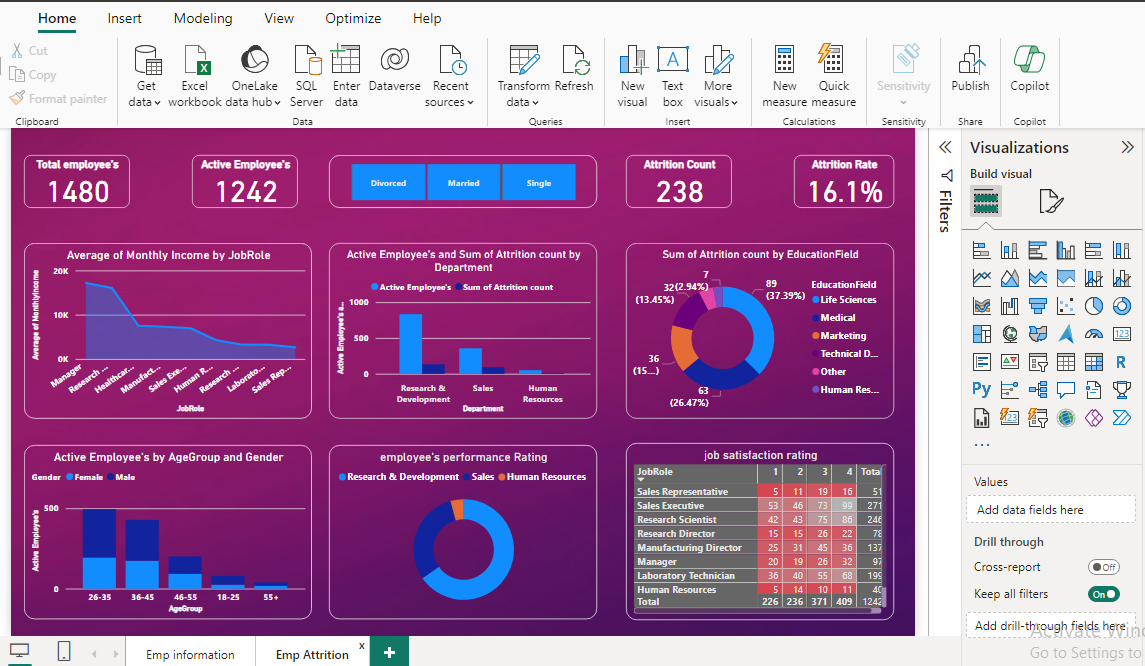

This screenshot's page, from the dashboard's own definition file:
{"tool":"powerbi","page":{"name":"Emp Attrition","canvas":[1280,720],"ordinal":1},"visuals":[{"type":"card","title":"Total employee''s","fields":{"Values":["Sum(HR_Analytics.EmployeeCount)"]},"box":[18.4,38.3,150.2,75.1],"z":0},{"type":"card","title":"Active Employee''s","fields":{"Values":["HR_Analytics.Active Employee's"]},"box":[256.5,38.3,150.2,75.1],"z":1000},{"type":"card","title":"Attrition Count","fields":{"Values":["Sum(HR_Analytics.Attrition count)"]},"box":[871.7,38.3,150.2,75.1],"z":2000},{"type":"card","title":"Attrition Rate","fields":{"Values":["HR_Analytics.Attrition Rate"]},"box":[1109.8,38.3,141.7,75.1],"z":3000},{"type":"clusteredColumnChart","fields":{"Category":["HR_Analytics.Department"],"Y":["HR_Analytics.Active Employee's","Sum(HR_Analytics.Attrition count)"]},"box":[450.7,163,379.8,249.4],"z":4000},{"type":"donutChart","fields":{"Y":["Sum(HR_Analytics.Attrition count)"],"Category":["HR_Analytics.EducationField"]},"box":[871.7,163,379.8,249.4],"z":5000},{"type":"columnChart","fields":{"Y":["HR_Analytics.Active Employee's"],"Category":["HR_Analytics.AgeGroup"],"Series":["HR_Analytics.Gender"]},"box":[18.4,449.3,408.2,246.6],"z":6000},{"type":"pivotTable","title":"job satisfaction rating","fields":{"Rows":["HR_Analytics.JobRole"],"Columns":["HR_Analytics.JobSatisfaction"],"Values":["HR_Analytics.Active Employee's"]},"box":[871.7,446.5,379.8,250.9],"z":7000},{"type":"donutChart","title":"employee''s performance Rating","fields":{"Category":["HR_Analytics.Department"],"Y":["CountNonNull(HR_Analytics.PerformanceRating)"]},"box":[450.7,449.3,379.8,246.6],"z":8000},{"type":"areaChart","title":"Average of Monthly Income by JobRole","fields":{"Category":["HR_Analytics.JobRole"],"Y":["Avg(HR_Analytics.MonthlyIncome)"]},"box":[18.4,163,408.2,249.4],"z":9000},{"type":"slicer","fields":{"Values":["HR_Analytics.MaritalStatus"]},"box":[450.7,38.3,379.8,75.1],"z":10000}]}

Visuals, with their boxes on the page's 1280x720 design canvas (x1, y1, x2, y2). These are canvas units, not pixel positions in the 1145x666 screenshot, which may show the page scaled, cropped or inside an application window:
"Total employee''s" card: detection(18, 38, 169, 113)
"Active Employee''s" card: detection(256, 38, 407, 113)
"Attrition Count" card: detection(872, 38, 1022, 113)
"Attrition Rate" card: detection(1110, 38, 1252, 113)
clusteredColumnChart - HR_Analytics.Department x HR_Analytics.Active Employee's: detection(451, 163, 830, 412)
donutChart - Sum(HR_Analytics.Attrition count) x HR_Analytics.EducationField: detection(872, 163, 1252, 412)
columnChart - HR_Analytics.Active Employee's x HR_Analytics.AgeGroup: detection(18, 449, 427, 696)
"job satisfaction rating" pivotTable: detection(872, 446, 1252, 697)
"employee''s performance Rating" donutChart: detection(451, 449, 830, 696)
"Average of Monthly Income by JobRole" areaChart: detection(18, 163, 427, 412)
slicer - HR_Analytics.MaritalStatus: detection(451, 38, 830, 113)
